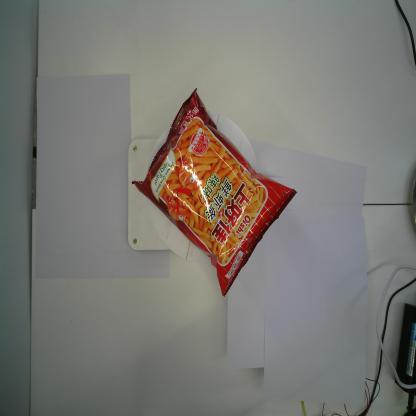Puffed Food: (131, 86, 298, 297)
